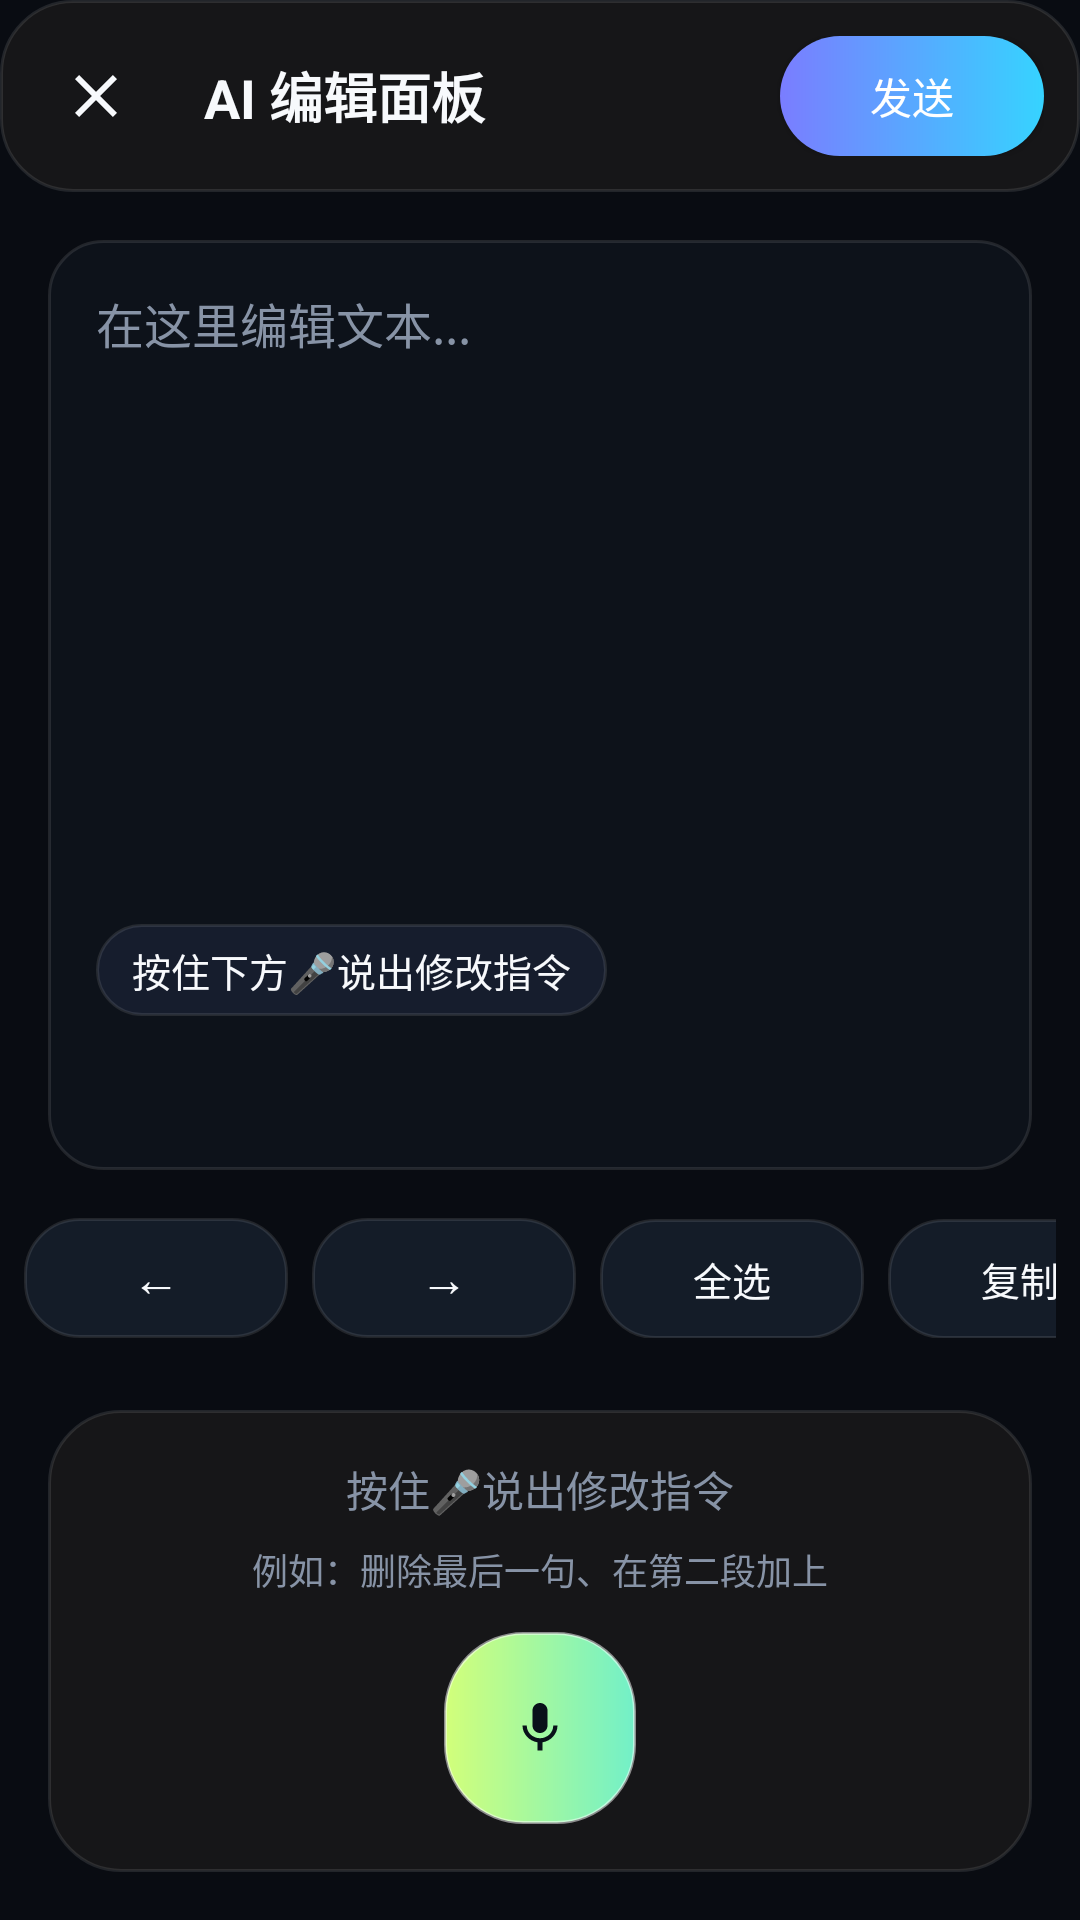

Icon click points for this 1080px×1920px phone screenshot, format point (x, y):
clear: point (96, 96)
typeink mic: point (540, 1728)
